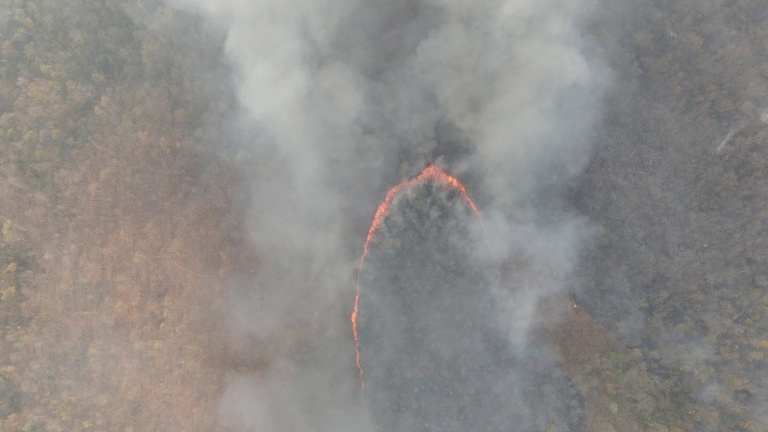fire: (345, 160, 494, 419), (569, 302, 578, 314)
smoke: (161, 2, 370, 432), (431, 1, 593, 351)
